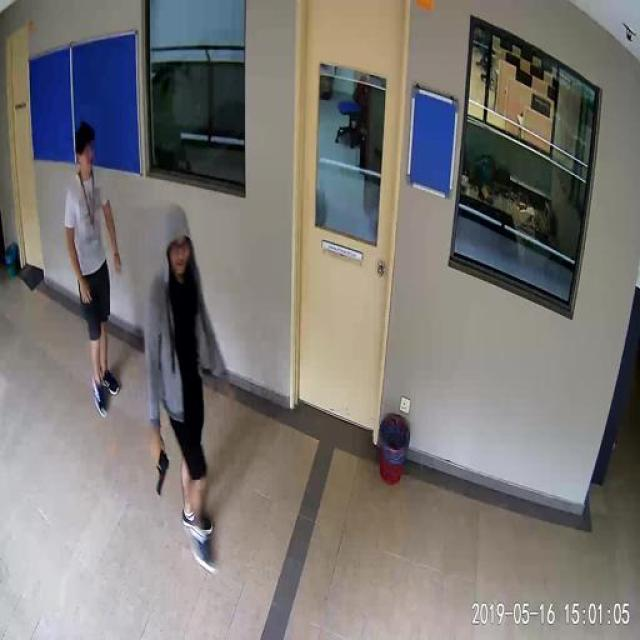Gun: (140, 451, 181, 501)
